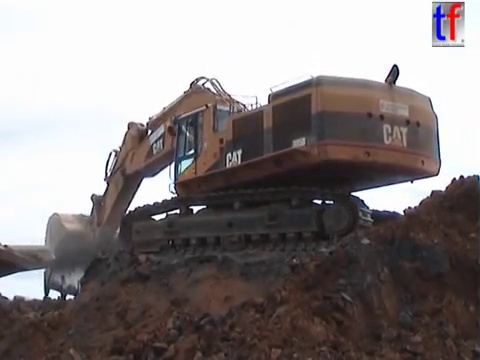excavator: (41, 61, 445, 303)
truck: (1, 240, 59, 282)
